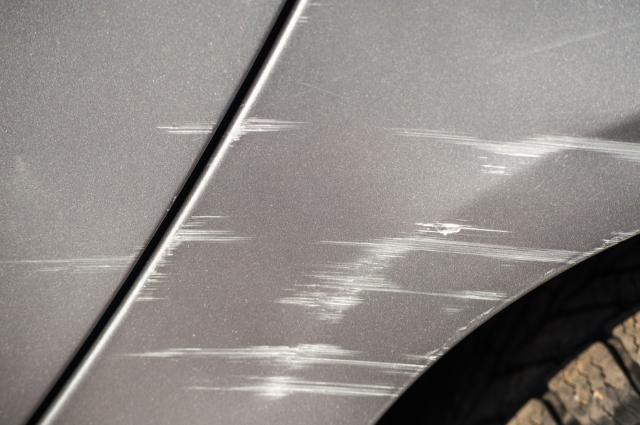Door: (0, 0, 296, 425)
Fender: (30, 0, 640, 421)
